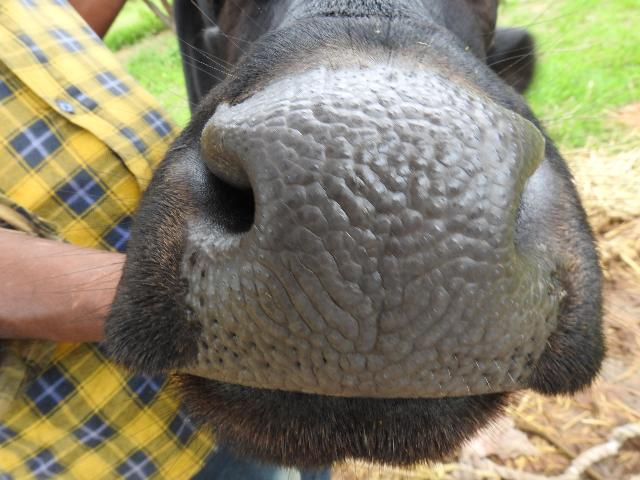Muzzle: (238, 100, 520, 386)
